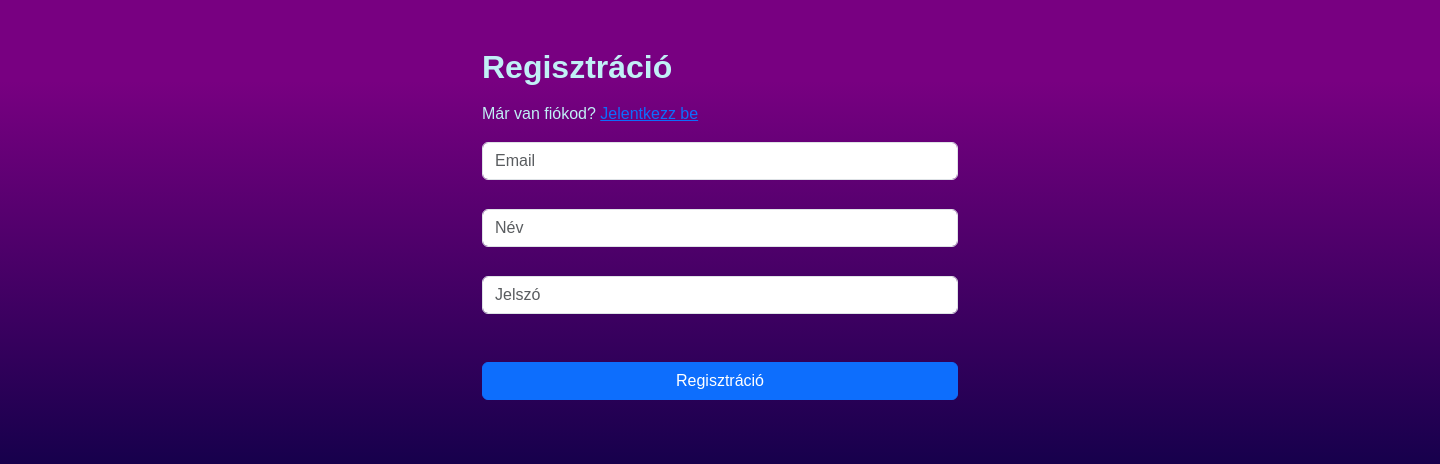
it: Register Page › displays error on failed registration
Type "test@example.com" into the field with placeholder "Email" at (720, 161), box [482, 142, 958, 180]
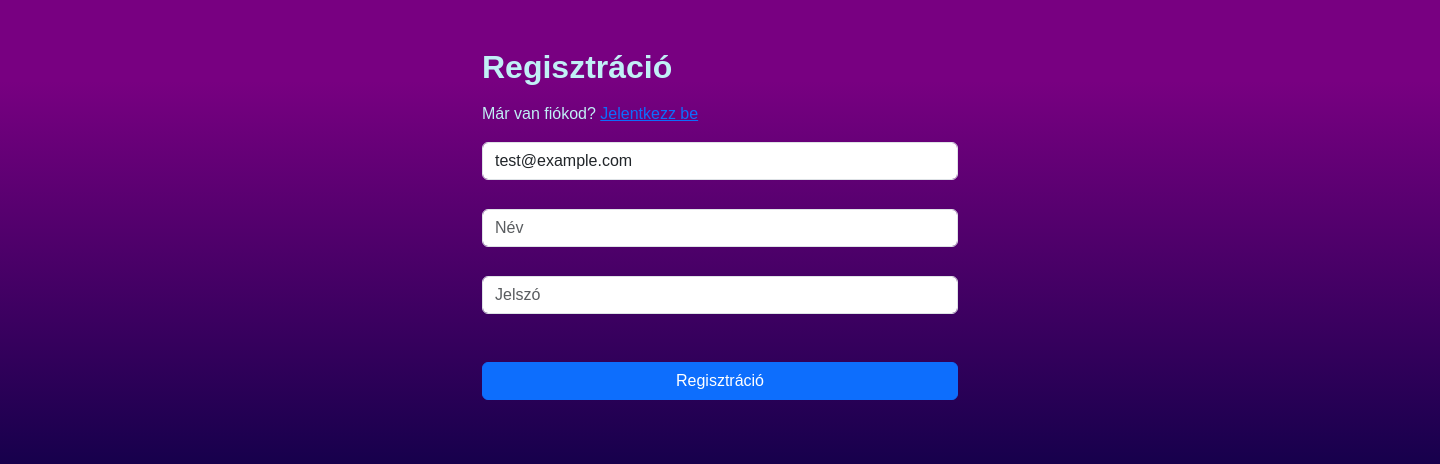
Type "Test User" into the field with placeholder "Név" at (720, 228), box [482, 209, 958, 247]
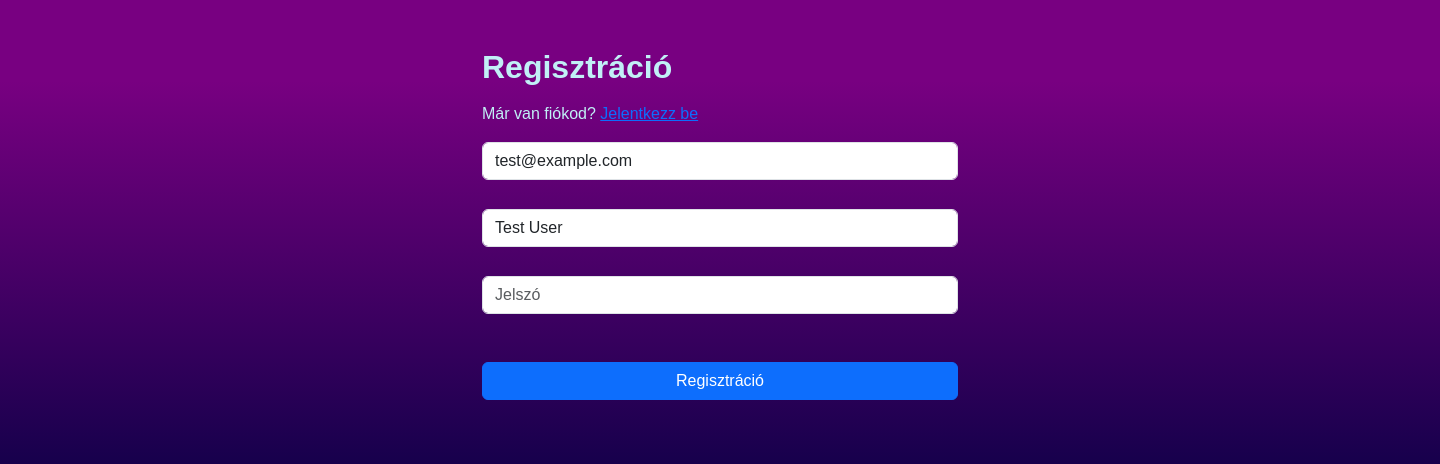
Type "password123" into the password field with placeholder "Jelszó" at (720, 295), box [482, 276, 958, 314]
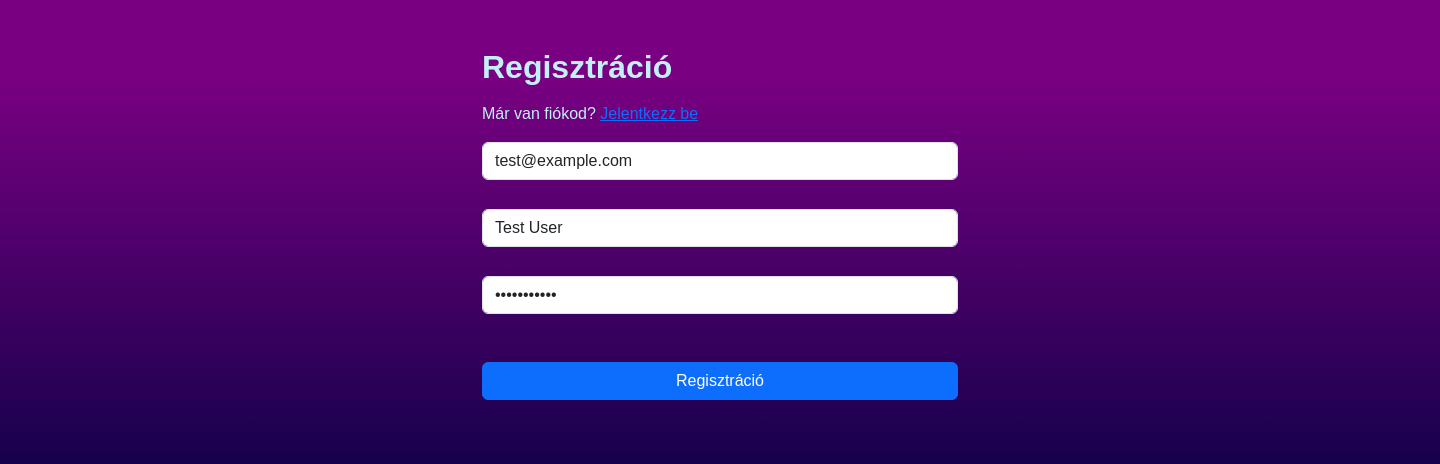
Click the button "Regisztráció" at (720, 381), box [482, 362, 958, 400]
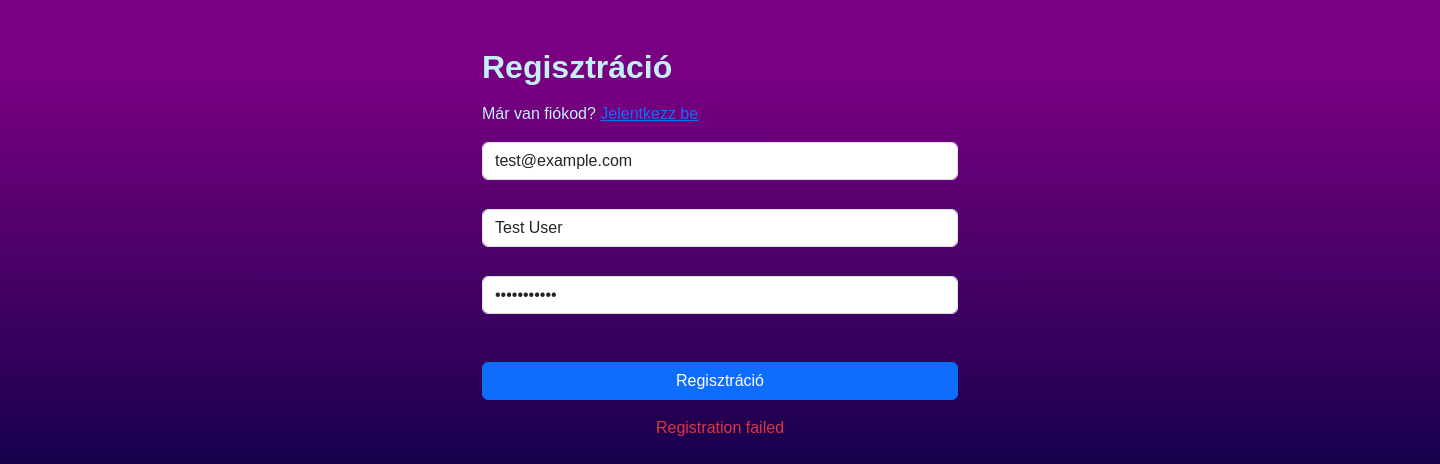
expect the text "Registration failed" is shown: met, box [656, 419, 784, 436]
